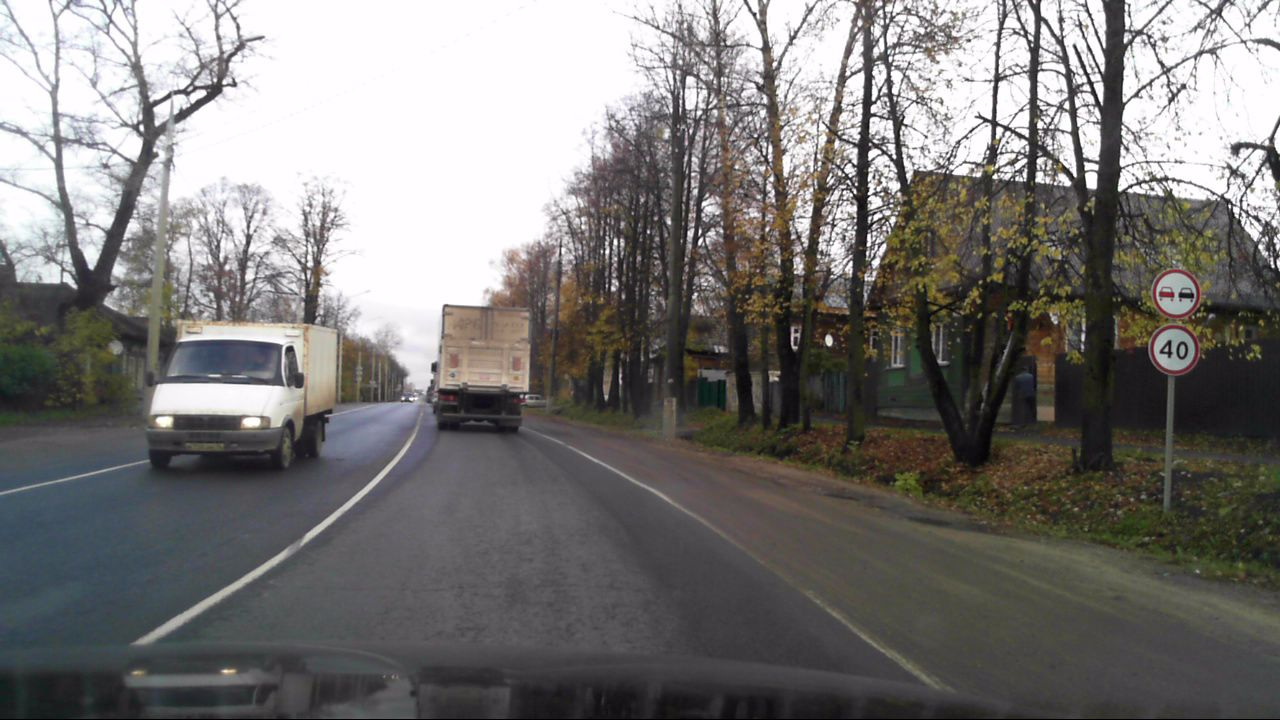speed_warning_40: (1148, 326, 1199, 376)
